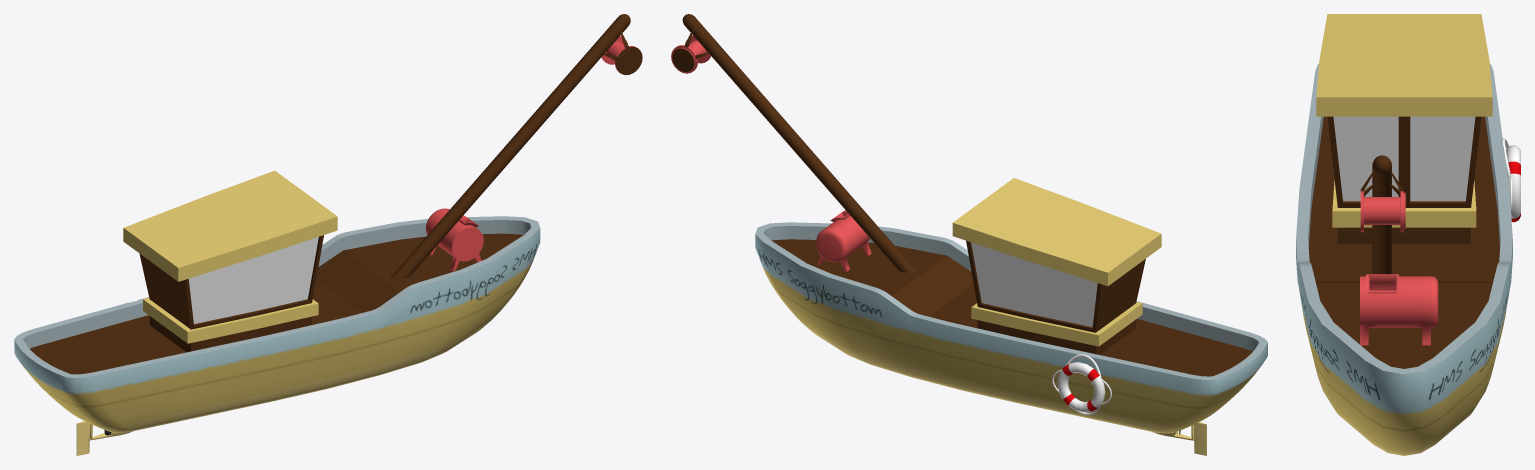
Rendered from LD48 Boat with Tex.fbx.
3 views of the same model, side by side, from view 1: azimuth 30°, elevation 25°; view 2: azimuth 150°, elevation 25°; view 3: azimuth 270°, elevation 25° (orthographic). The views are drawn at different scales.
Visible parts, largest first — view 1: Boat; view 2: Boat; view 3: Boat.
Boxes of the visible parts, <box> form: Boat: <box>14,14,642,455</box>; Boat: <box>671,14,1267,455</box>; Boat: <box>1296,14,1520,455</box>.
Bounding box in the file's own units: 8.72 × 4.42 × 2.04.
9 materials, 1 textured.
